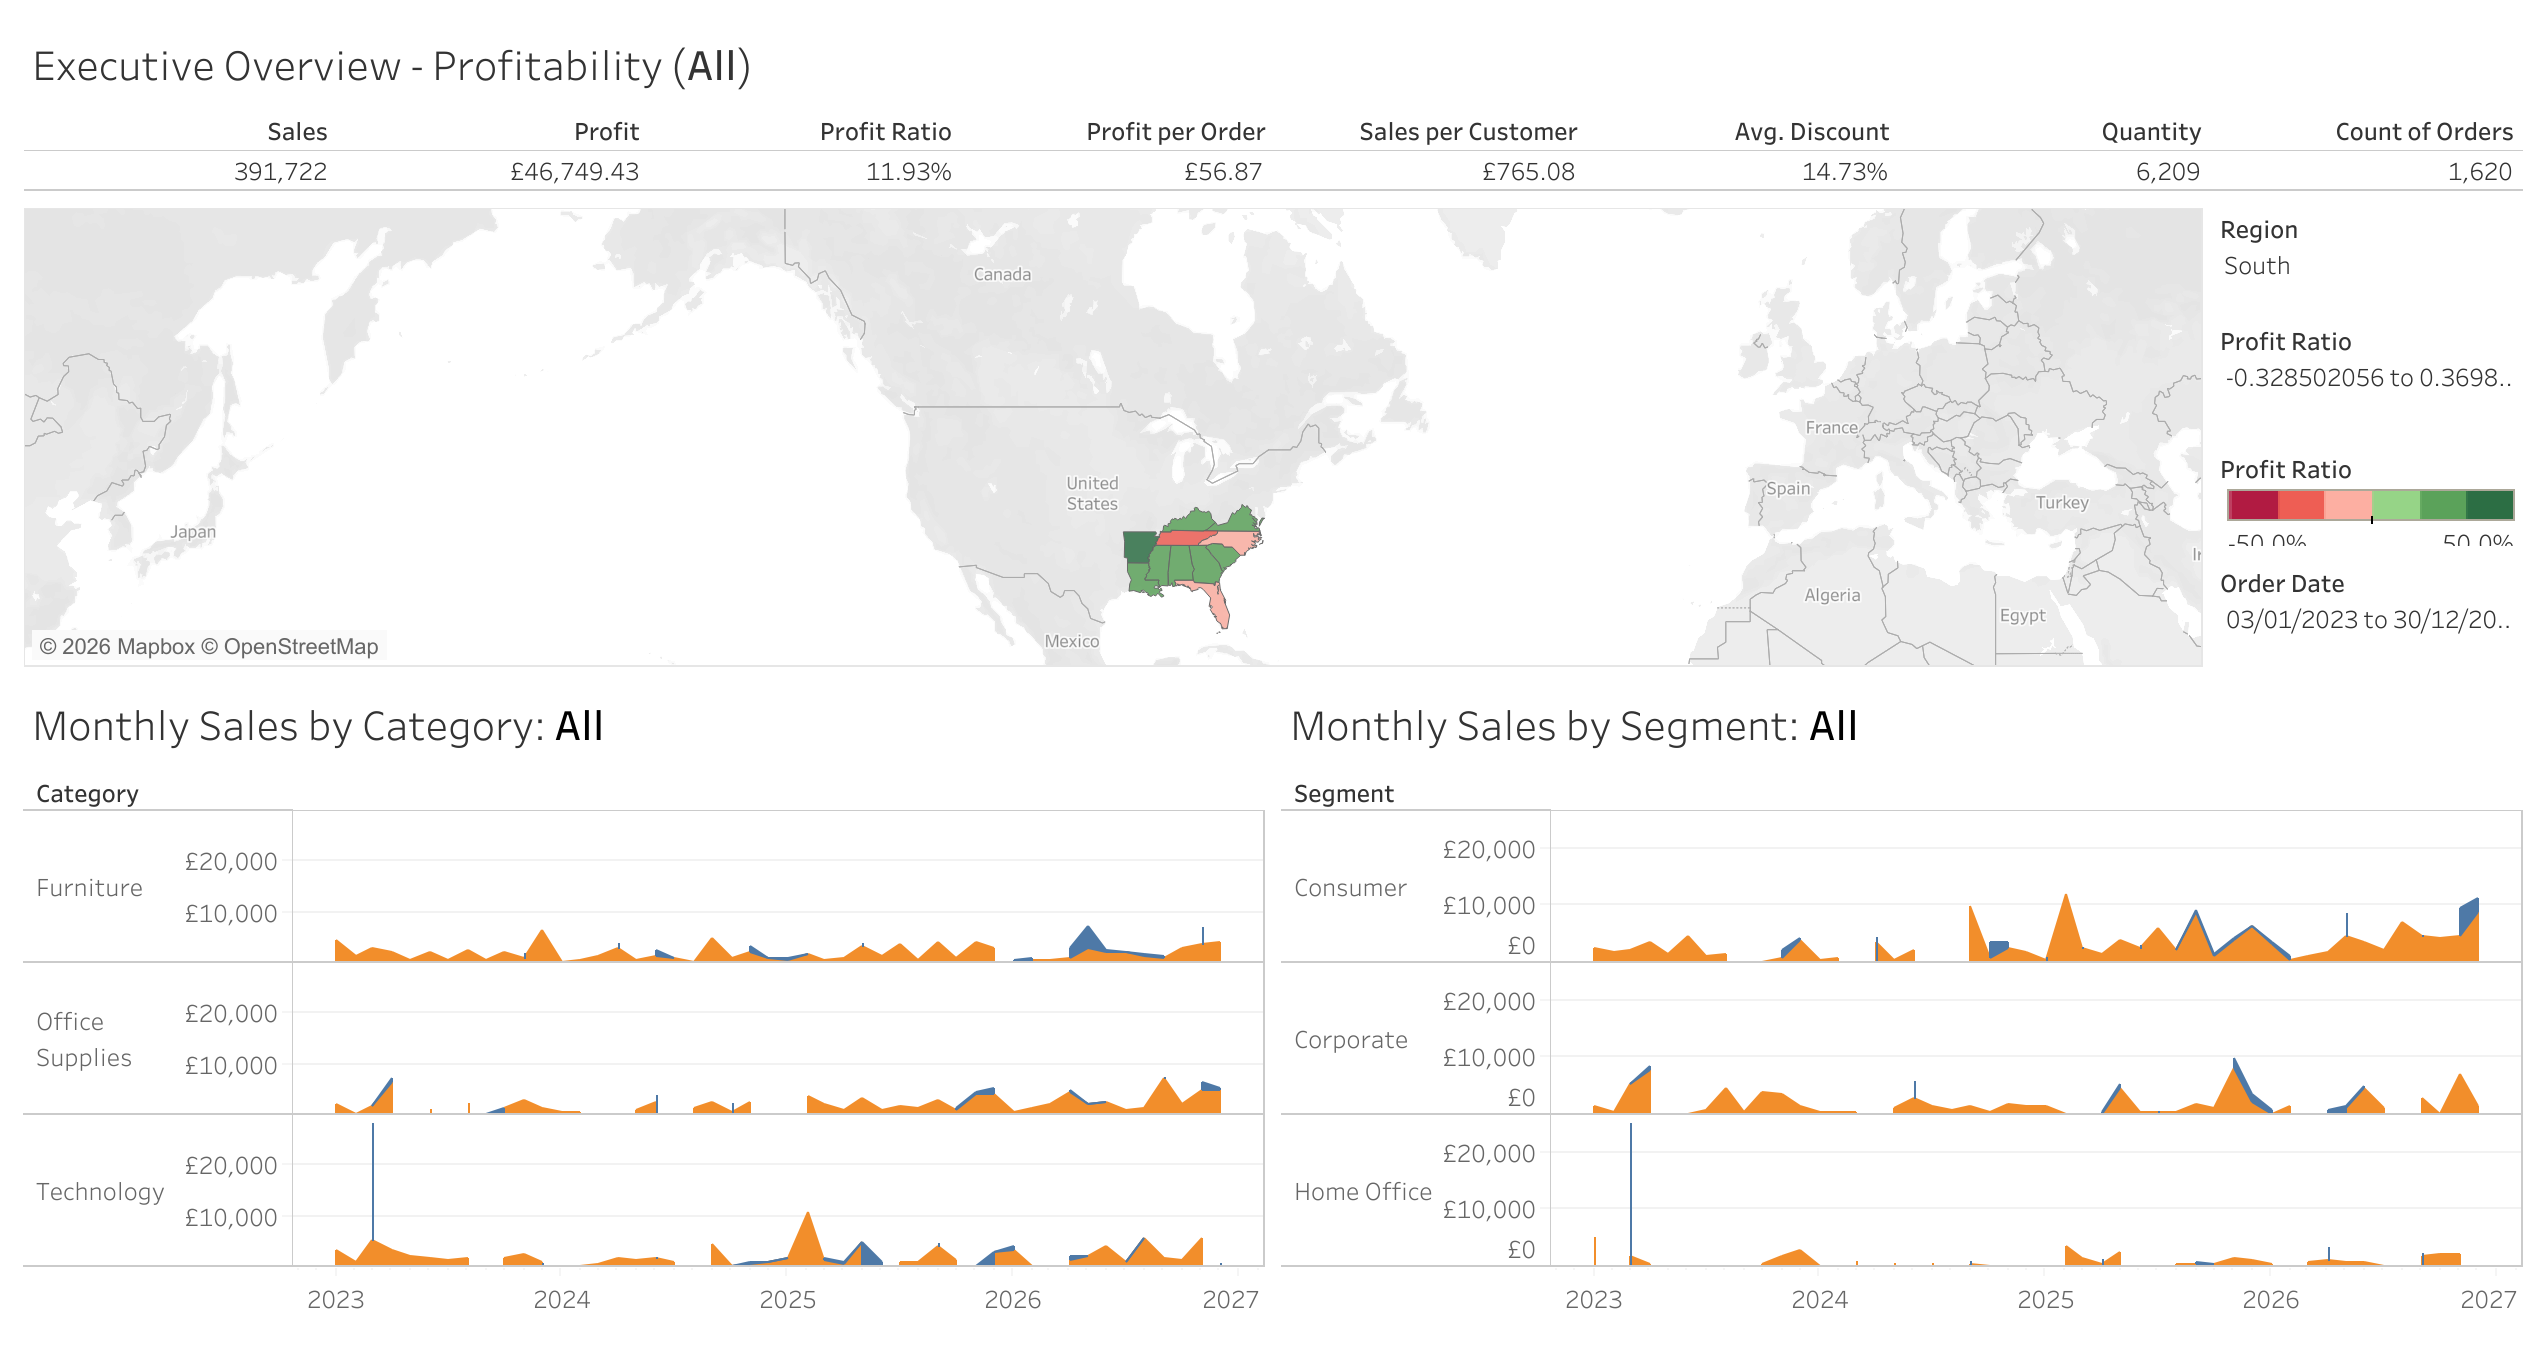

The dashboard page shown, as its layout file describes it:
{"tool":"tableau","page":{"name":"Executive Overview","canvas":[1000,1000],"units":"permille","ordinal":0},"visuals":[{"type":"worksheet","title":"Key Performance Indicators","mark":"Automatic","box":[6.6,11.8,986.8,135.1]},{"type":"worksheet","title":"Profit Ratio by Geography","mark":"Automatic","box":[6.6,146.8,854.4,353.2]},{"type":"filter","title":"Profit Ratio by Geography","param":"[federated.1xrb1ig0scf6ov1fjsrsw0xfbv0v].[none:Region:nk]","box":[861,146.8,132.3,82.2]},{"type":"filter","title":"Profit Ratio by Geography","param":"[federated.1xrb1ig0scf6ov1fjsrsw0xfbv0v].[usr:Calculation_0014784156213293:qk]","box":[861,229.1,132.3,90.3]},{"type":"legend","title":"Profit Ratio by Geography","param":"[federated.1xrb1ig0scf6ov1fjsrsw0xfbv0v].[usr:Calculation_0014784156213293:qk]","box":[861,319.4,132.3,90.3]},{"type":"filter","title":"Sales by Category","param":"[federated.1xrb1ig0scf6ov1fjsrsw0xfbv0v].[none:Order Date:qk]","box":[861,409.7,132.3,90.3]},{"type":"worksheet","title":"Sales by Category","mark":"Area","rows":["Category","Sales"],"cols":["Order Date"],"box":[6.6,500,493.4,488.2]},{"type":"worksheet","title":"Sales by Segment","mark":"Area","rows":["Segment","Sales"],"cols":["Order Date"],"box":[500,500,493.4,488.2]}]}

Visuals, with their boxes on the dashboard's canvas, which has no fixed pixel size, in thousandths of its width and height (x1, y1, x2, y2). These are canvas units, not pixel positions in the 2546x1350 screenshot, which may show the page scaled, cropped or inside an application window:
"Key Performance Indicators" worksheet: 7 12 993 147
"Profit Ratio by Geography" worksheet: 7 147 861 500
"Profit Ratio by Geography" filter: 861 147 993 229
"Profit Ratio by Geography" filter: 861 229 993 319
"Profit Ratio by Geography" legend: 861 319 993 410
"Sales by Category" filter: 861 410 993 500
"Sales by Category" worksheet (Area marks): 7 500 500 988
"Sales by Segment" worksheet (Area marks): 500 500 993 988
